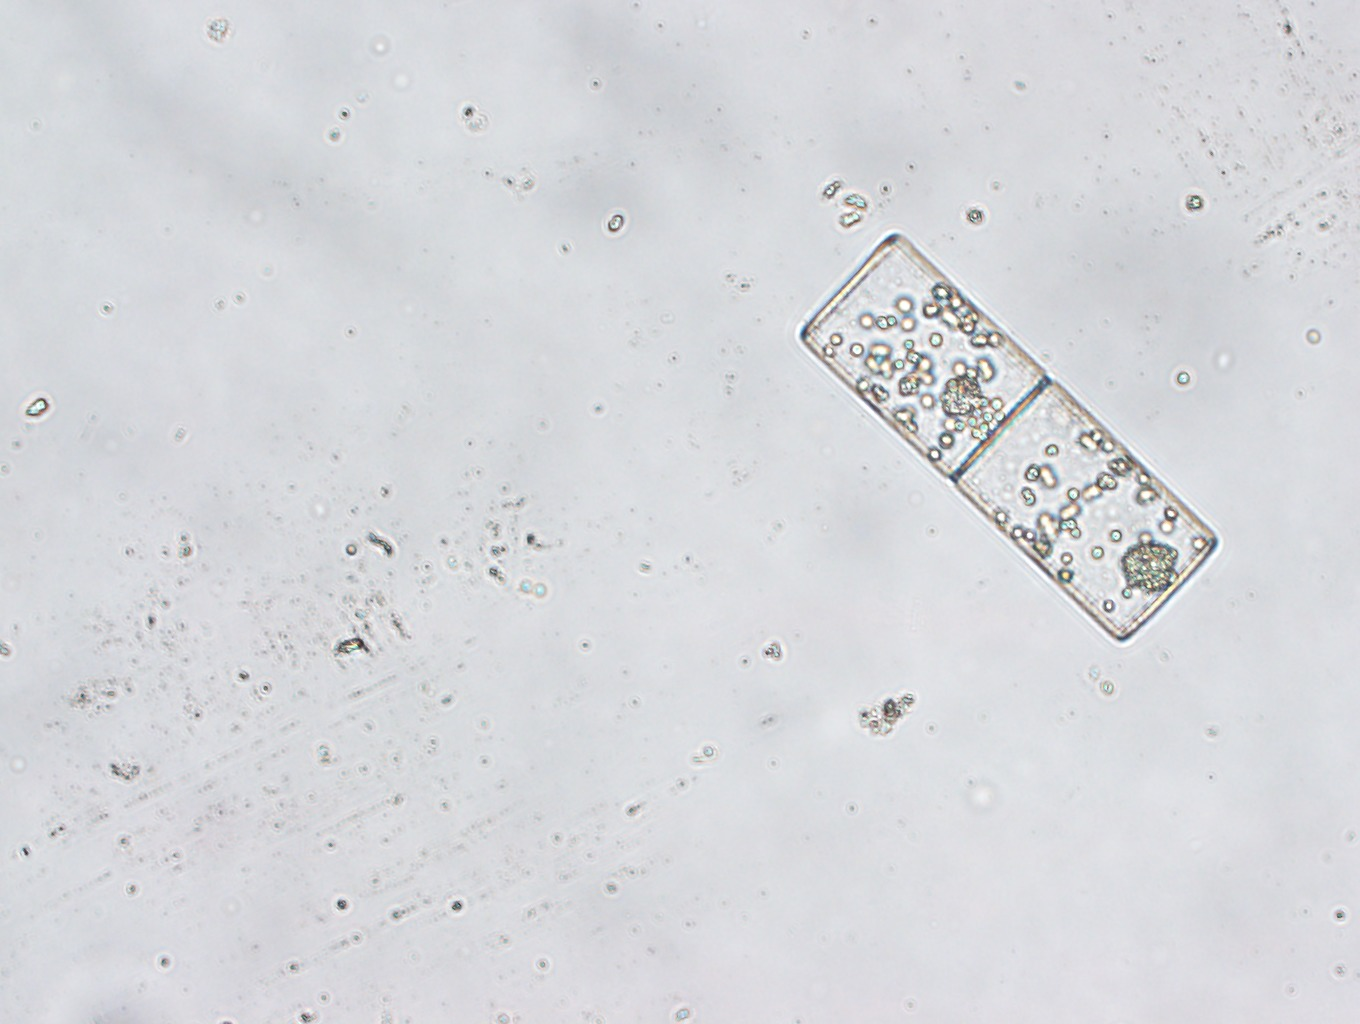guinardia flaccida: (796, 229, 1219, 646)
